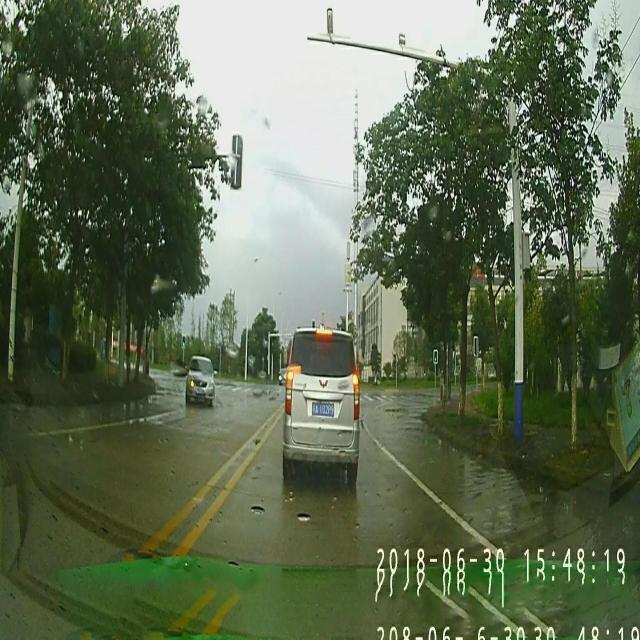car: (281, 324, 360, 487), (186, 354, 214, 408)
